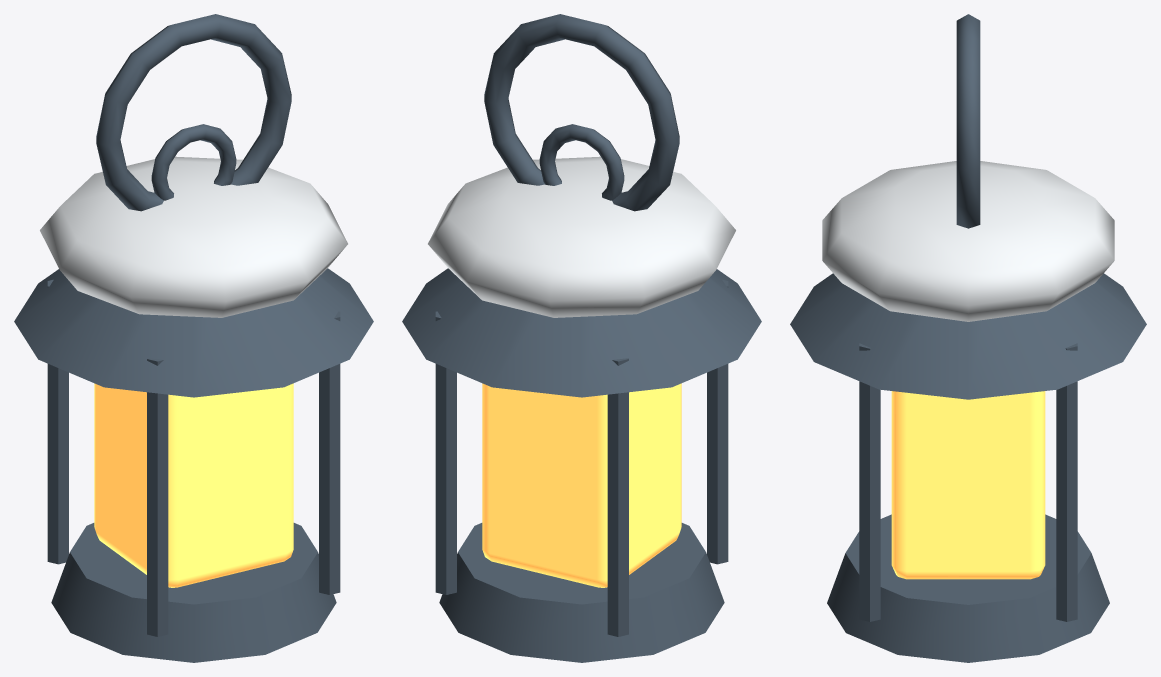
File: alpine-snow-village-snowy-carry-lantern-9883e7f8__19830.glb
3 views of the same model, side by side, from view 1: azimuth 30°, elevation 25°; view 2: azimuth 150°, elevation 25°; view 3: azimuth 270°, elevation 25° (orthographic).
Visible parts, largest first — view 1: snowy-carry-lantern-iron, snowy-carry-lantern-snow, snowy-carry-lantern-amber; view 2: snowy-carry-lantern-iron, snowy-carry-lantern-snow, snowy-carry-lantern-amber; view 3: snowy-carry-lantern-iron, snowy-carry-lantern-snow, snowy-carry-lantern-amber.
Part boxes in pixels (x1,y1,x2,y2): snowy-carry-lantern-iron: (14, 14, 373, 662); snowy-carry-lantern-snow: (40, 156, 347, 317); snowy-carry-lantern-amber: (94, 383, 293, 587); snowy-carry-lantern-iron: (402, 14, 761, 662); snowy-carry-lantern-snow: (428, 156, 735, 317); snowy-carry-lantern-amber: (482, 383, 681, 587); snowy-carry-lantern-iron: (790, 14, 1146, 662); snowy-carry-lantern-snow: (822, 161, 1114, 321); snowy-carry-lantern-amber: (891, 391, 1045, 579).
Bounding box in the file's own units: 0.58 × 1.04 × 0.58.
